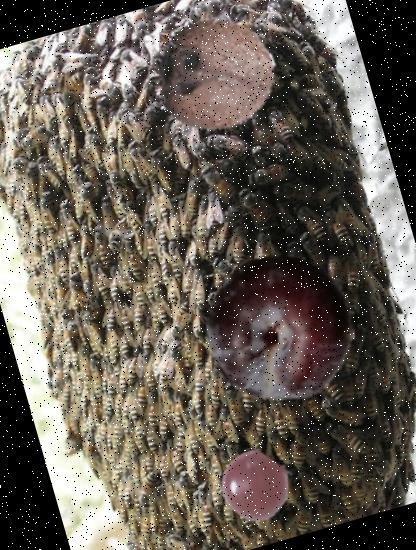Cocos: (137, 0, 294, 152)
Plum: (188, 234, 372, 418)
Redcurrant: (213, 444, 297, 528)
